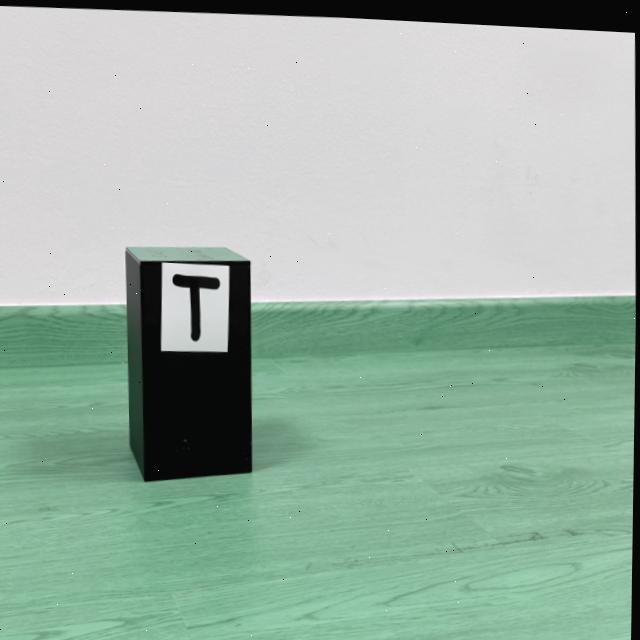T: (172, 271, 221, 339)
